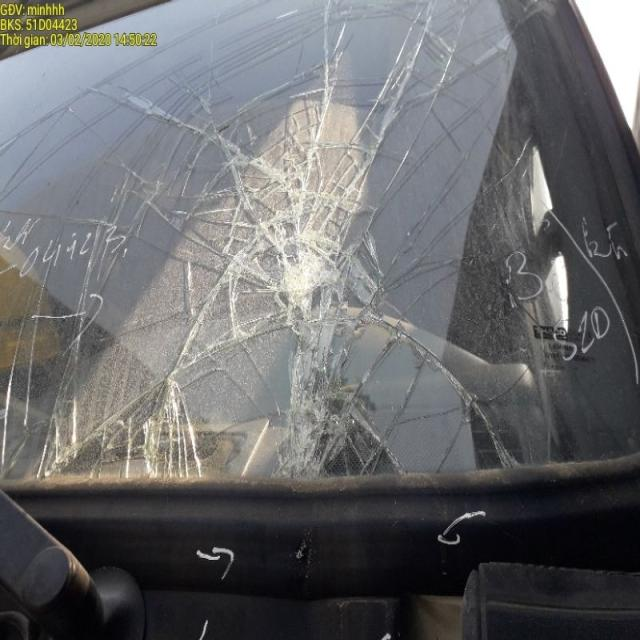Fissure: (189, 116, 417, 377), (343, 311, 531, 474), (2, 191, 176, 308), (46, 333, 194, 470), (360, 1, 525, 116), (44, 69, 219, 175), (451, 132, 559, 229), (278, 370, 363, 461), (294, 1, 357, 107)
